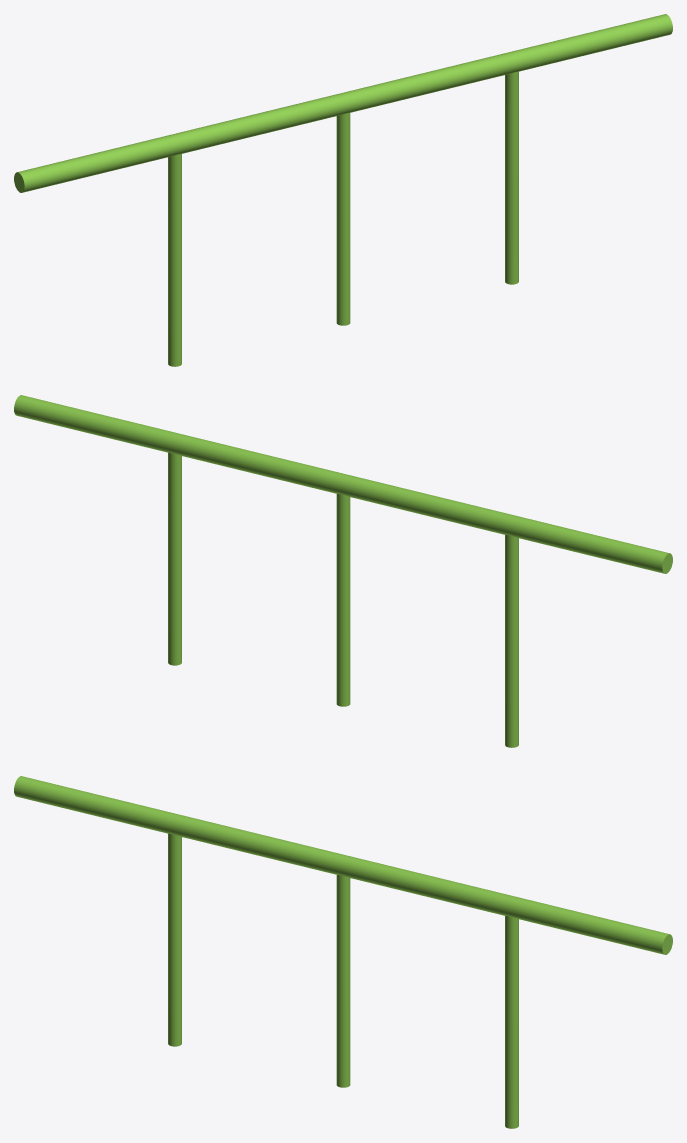
3 renders of one model, top to bottom at view 1: azimuth 30°, elevation 25°; view 2: azimuth 150°, elevation 25°; view 3: azimuth 330°, elevation 25°, orthographic.
Parts seen in each view (by area): view 1: Group1; view 2: Group1; view 3: Group1.
Part boxes in pixels (x1,y1,x2,y2): Group1: (14, 14, 672, 366); Group1: (14, 395, 672, 747); Group1: (14, 776, 672, 1128).
Bounding box in the file's own units: 180 × 60.83 × 5.12.
